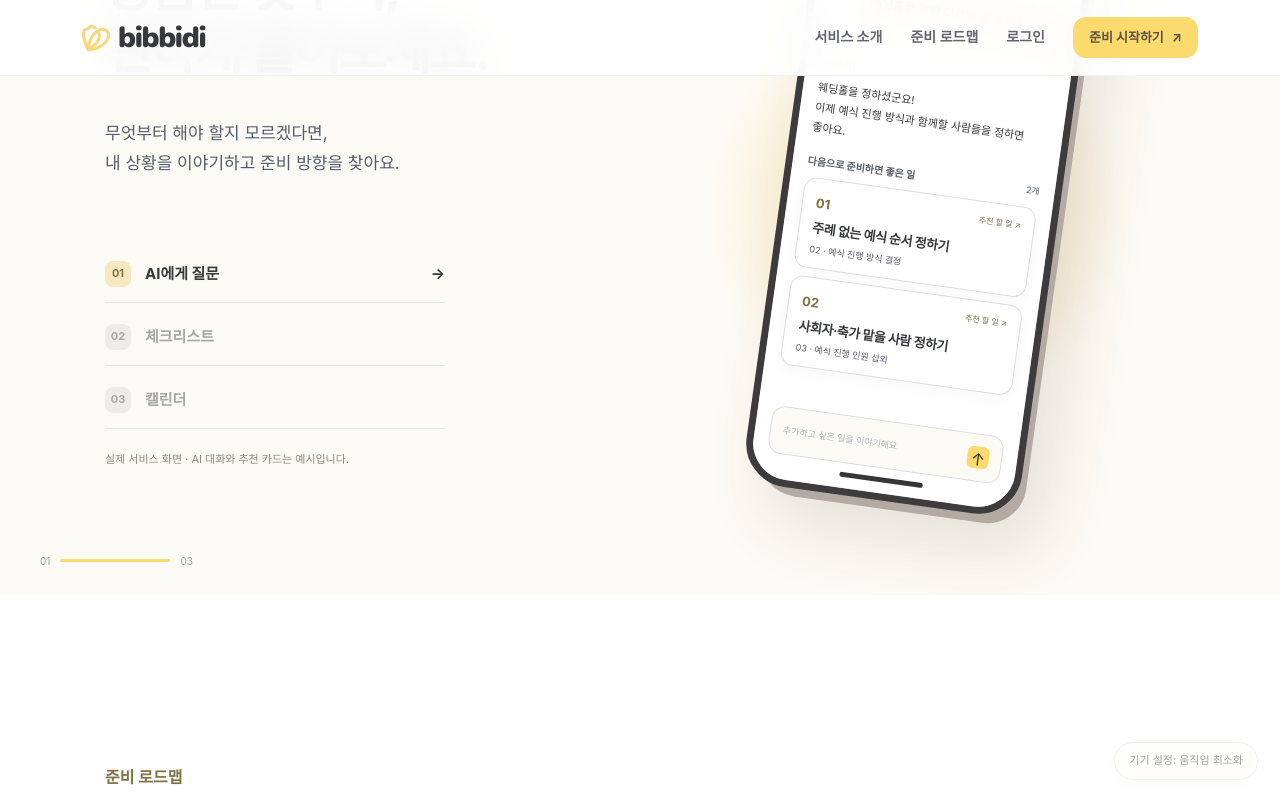
Scenario: LandingFeature › 기기의 움직임 최소화 설정 변경을 반영하고 자동 모션을 중단한다
The width and height of the screenshot is (1280, 800).
(page scrolled)
Expected: the button "기기 설정: 움직임 최소화" is disabled, [1114,742,1258,780]
Click the button "03 캘린더" at point(166, 399), box [105,372,445,429]
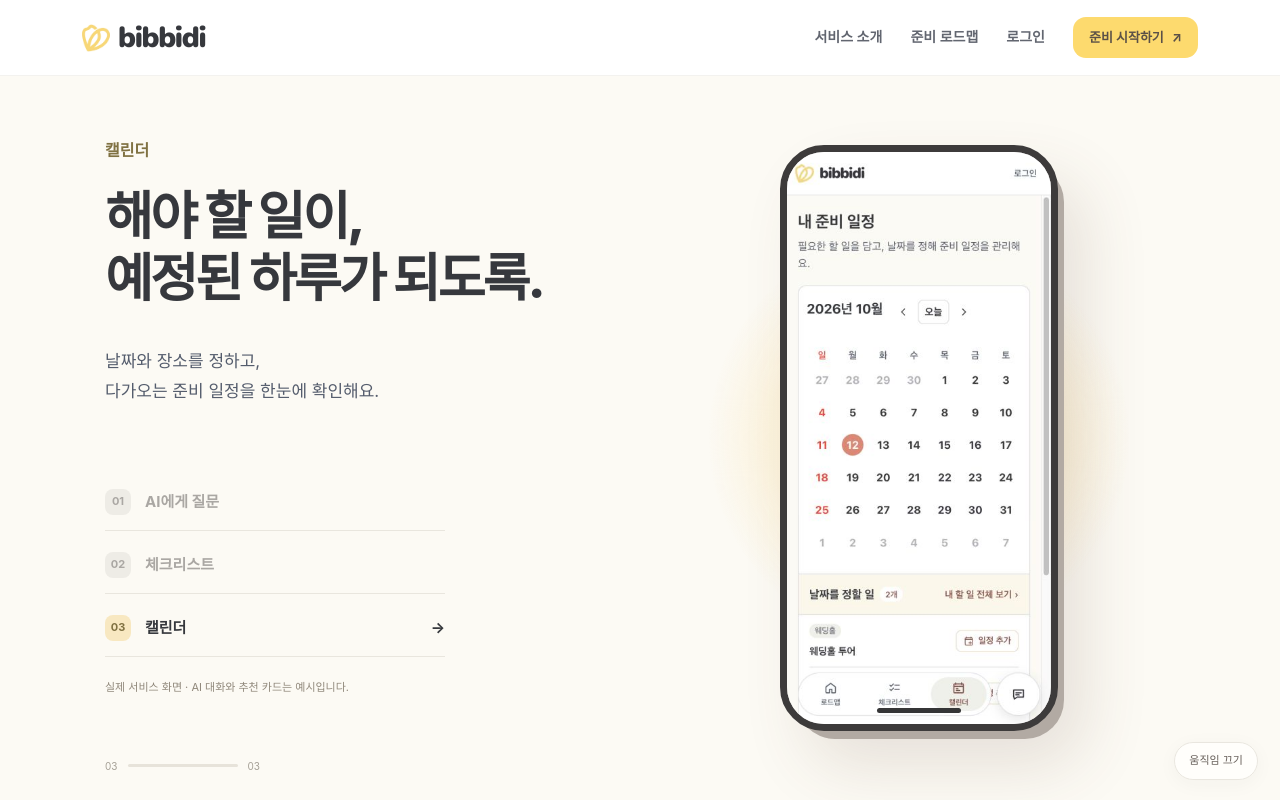
Expected: the heading "해야 할 일이,예정된 하루가 되도록." is shown, [105,186,618,321]
Expected: the button "움직임 끄기" is shown, [1174,742,1258,780]
